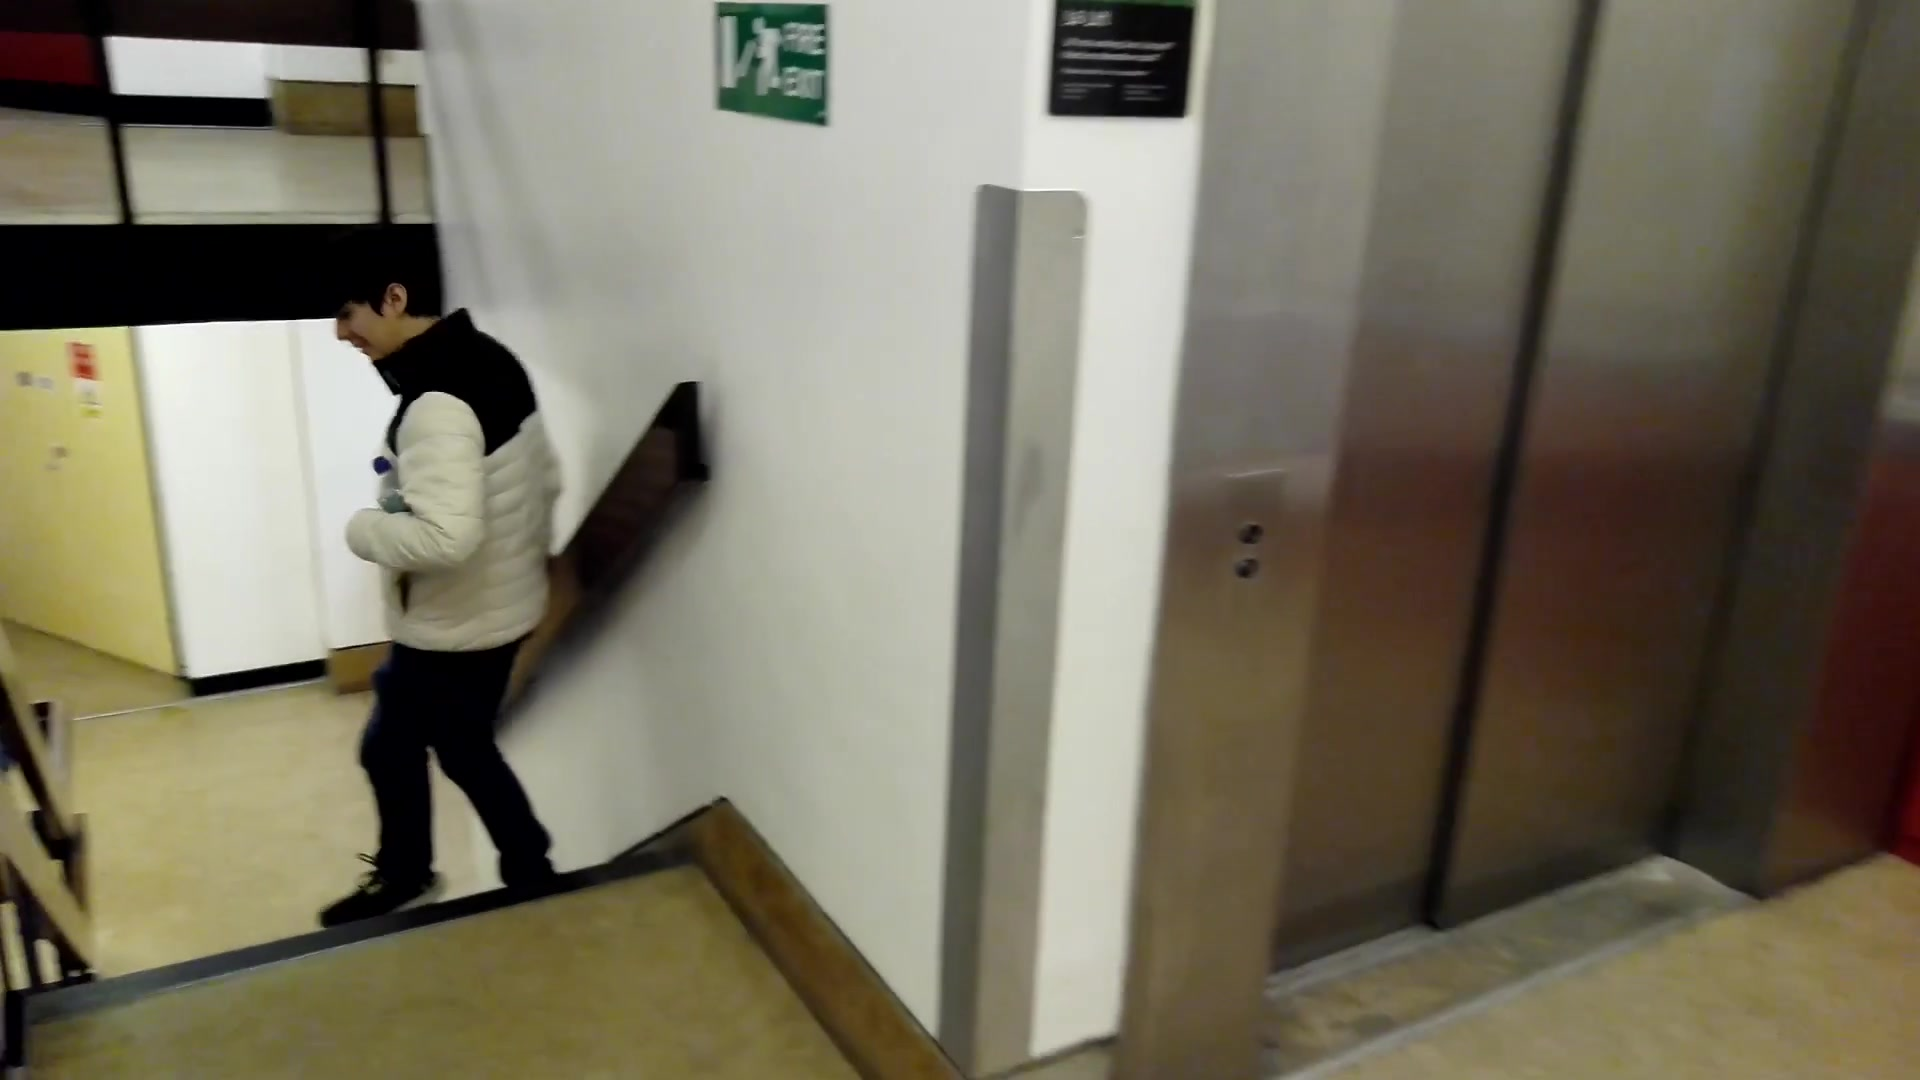Person: (313, 230, 568, 925)
